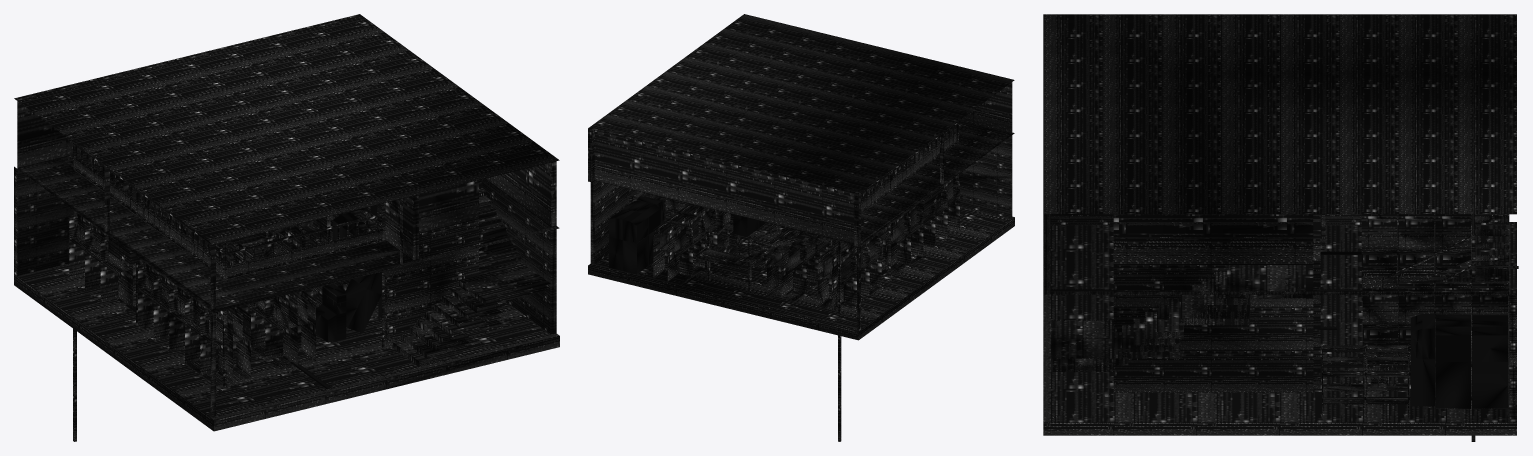
File: room3servers2_opt.obj
3 renders of one model, left to right at view 1: azimuth 30°, elevation 25°; view 2: azimuth 150°, elevation 25°; view 3: azimuth 270°, elevation 25°, orthographic. The views are drawn at different scales.
Size of the model in its own units: 102 by 96.05 by 103.
12 materials, 12 textured.
